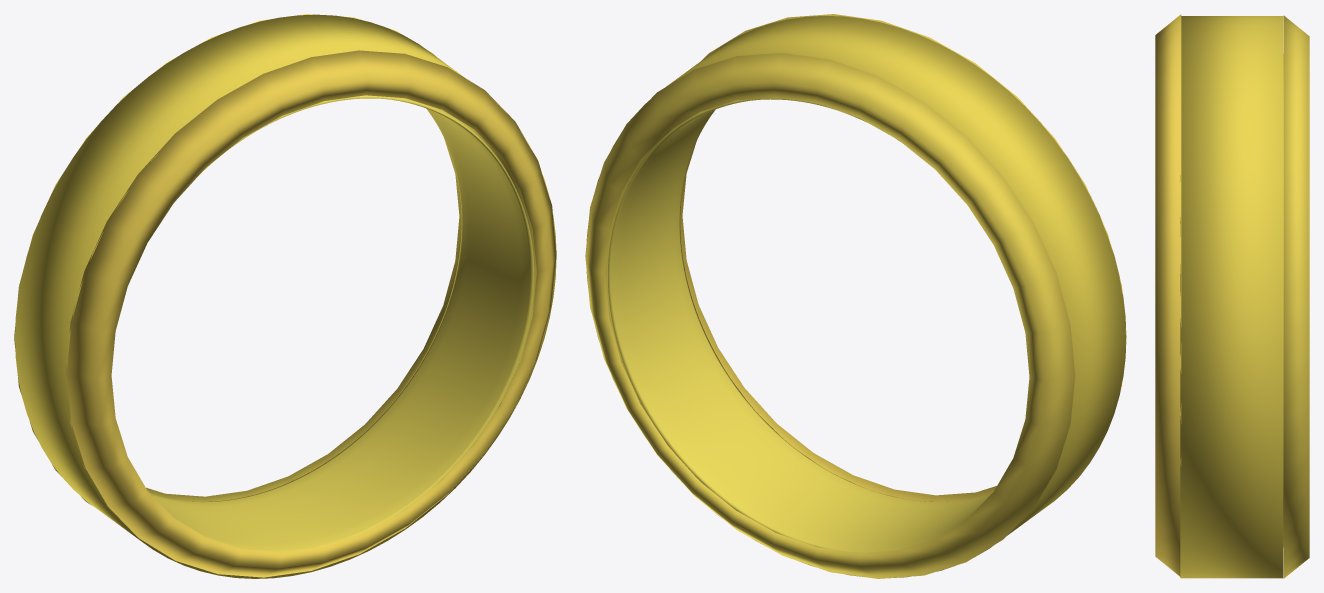
The model's file is ringchanf.glb.
3 views of the same model, side by side, from view 1: azimuth 30°, elevation 25°; view 2: azimuth 150°, elevation 25°; view 3: azimuth 270°, elevation 25° (orthographic).
Parts seen in each view (by area): view 1: Circle; view 2: Circle; view 3: Circle.
Boxes of the visible parts, x1,y1,x2,y2 form: Circle: [14, 14, 556, 578]; Circle: [585, 14, 1126, 578]; Circle: [1155, 14, 1309, 578].
Bounding box in the file's own units: 1.88 × 1.89 × 0.5139.
